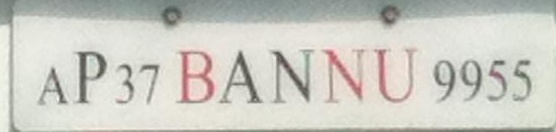character: (215, 49, 265, 106), (268, 46, 313, 105), (372, 45, 416, 105), (321, 45, 365, 104), (174, 48, 215, 105), (73, 47, 106, 102), (35, 65, 66, 107), (485, 55, 509, 104), (458, 56, 483, 103), (509, 56, 534, 103), (431, 58, 455, 106), (137, 61, 161, 104), (112, 62, 134, 105)
